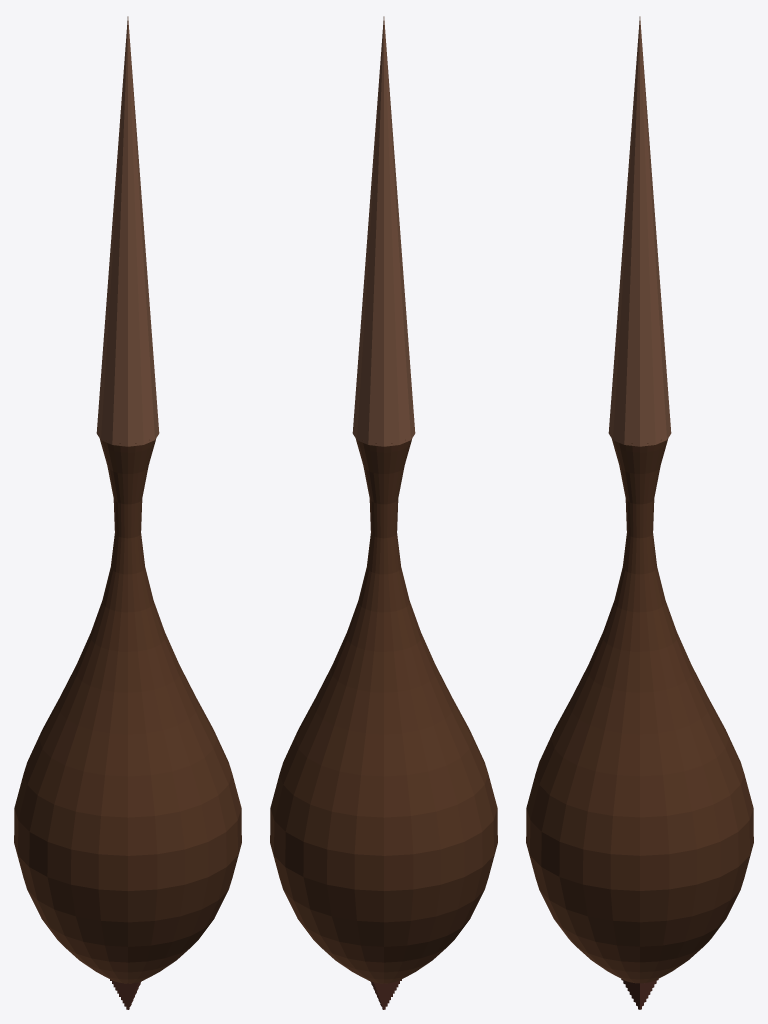
The model's file is Wand 924.glb.
3 views of the same model, side by side, from view 1: azimuth 30°, elevation 25°; view 2: azimuth 150°, elevation 25°; view 3: azimuth 270°, elevation 25° (orthographic).
Parts seen in each view (by area): view 1: GeneratedWand; view 2: GeneratedWand; view 3: GeneratedWand.
Boxes of the visible parts, x1=… form: GeneratedWand: x1=14, y1=16, x2=241, y2=1009; GeneratedWand: x1=270, y1=16, x2=497, y2=1009; GeneratedWand: x1=526, y1=16, x2=753, y2=1009.
Bounding box in the file's own units: 0.1026 × 0.4945 × 0.1026.
